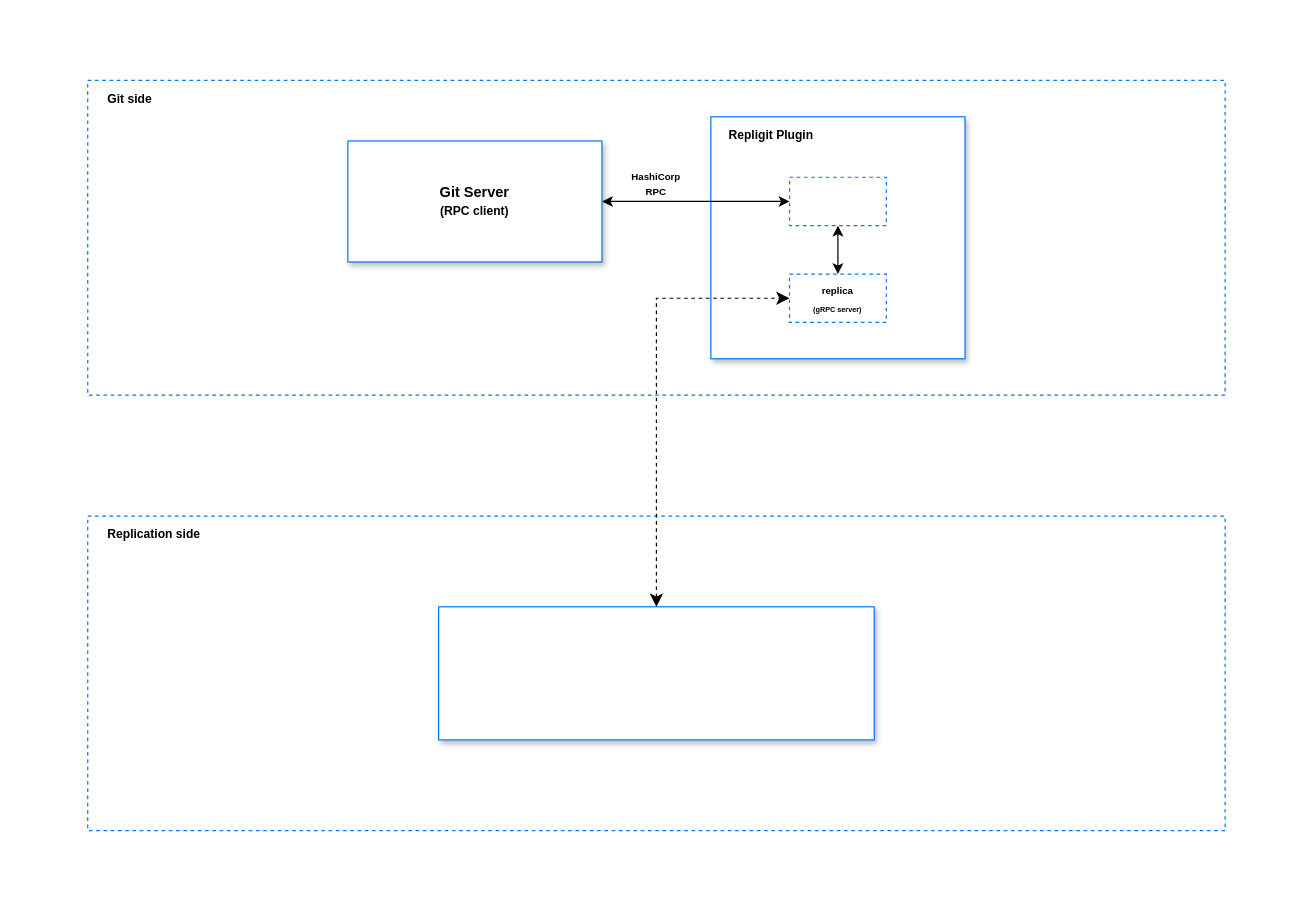
Image size: 1312x912. Some labels were removed from this diagram. The shapes that lost their labels are listed below. From the top down, each one's centre as x and y in pixels, then its label:
the point at 837,201: plugin (RPC server)
the point at 657,674: Repligit Server (gRPC client)
